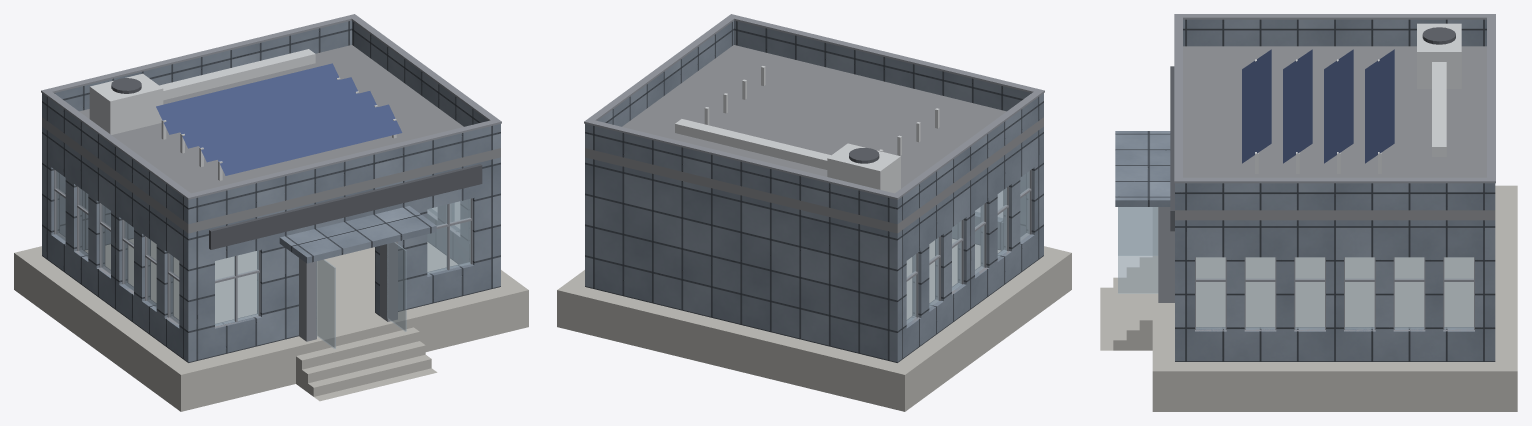
The model's file is spaces-ext-desk.glb.
The picture shows the model from 3 angles, left to right: view 1: azimuth 30°, elevation 25°; view 2: azimuth 150°, elevation 25°; view 3: azimuth 270°, elevation 25°; orthographic projection. The views are drawn at different scales.
Visible parts, largest first — view 1: desk exterior; view 2: desk exterior; view 3: desk exterior.
Boxes of the visible parts, bbox=[...] form: desk exterior: bbox=[14, 14, 528, 411]; desk exterior: bbox=[557, 14, 1071, 411]; desk exterior: bbox=[1100, 14, 1517, 411].
Size of the model in its own units: 11.8 by 6.9 by 11.2.
Materials: 8 (1 with a texture image).
